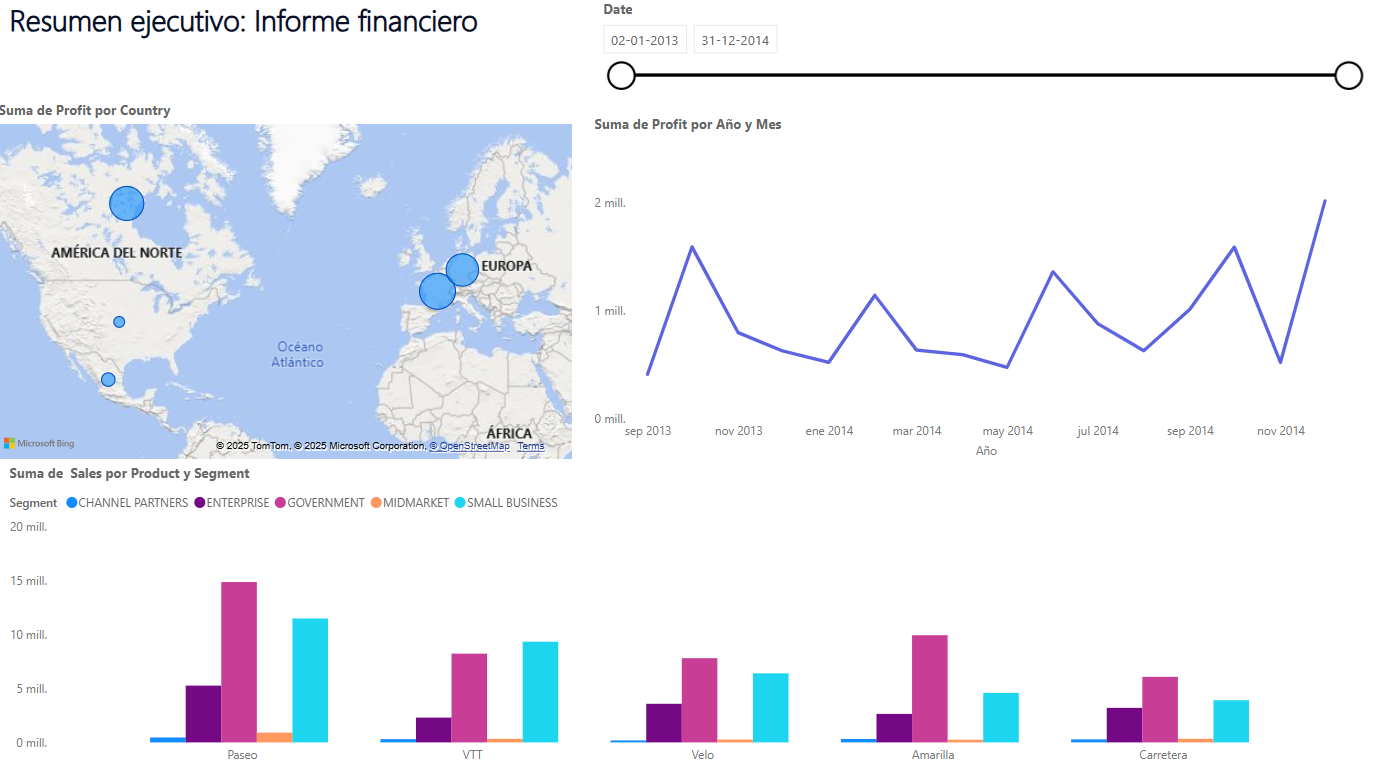

This screenshot's page, from the dashboard's own definition file:
{"tool":"powerbi","page":{"name":"Página 1","canvas":[1280,720],"ordinal":0},"visuals":[{"type":"textbox","box":[10,0,497.8,125.1],"z":0},{"type":"map","fields":{"Category":["financials.Country"],"Size":["Sum(financials.Profit)"]},"box":[0,96.8,530.1,329.6],"z":1000},{"type":"clusteredColumnChart","fields":{"Category":["financials.Product"],"Y":["Sum(financials. Sales)"],"Series":["financials.Segment"]},"box":[49.4,426.3,1184.3,281.2],"z":2000},{"type":"lineChart","fields":{"Y":["Sum(financials.Profit)"],"Category":["Calendario.Date.Variación.Jerarquía de fechas.Año","Calendario.Date.Variación.Jerarquía de fechas.Mes"]},"box":[540.2,109.9,694.4,316.5],"z":3001},{"type":"slicer","fields":{"Values":["Calendario.Date"]},"box":[540.5,0,710,101.6],"z":3002}]}

Visuals, with their boxes in screenshot pixels (x1, y1, x2, y2), scaled from the page's 1280x720 canvas onto the 1387x775 screenshot:
textbox: 11:0:550:135
map - financials.Country x Sum(financials.Profit): 0:104:574:459
clusteredColumnChart - financials.Product x Sum(financials. Sales): 54:459:1337:762
lineChart - Sum(financials.Profit) x Calendario.Date.Variación.Jerarquía de fechas.Año: 585:118:1338:459
slicer - Calendario.Date: 586:0:1355:109
